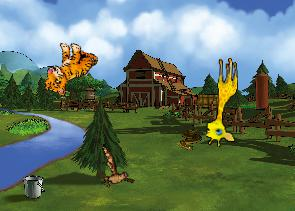eagle: (84, 143, 143, 198)
giraffe: (204, 56, 238, 147)
tiger: (40, 37, 100, 102)
